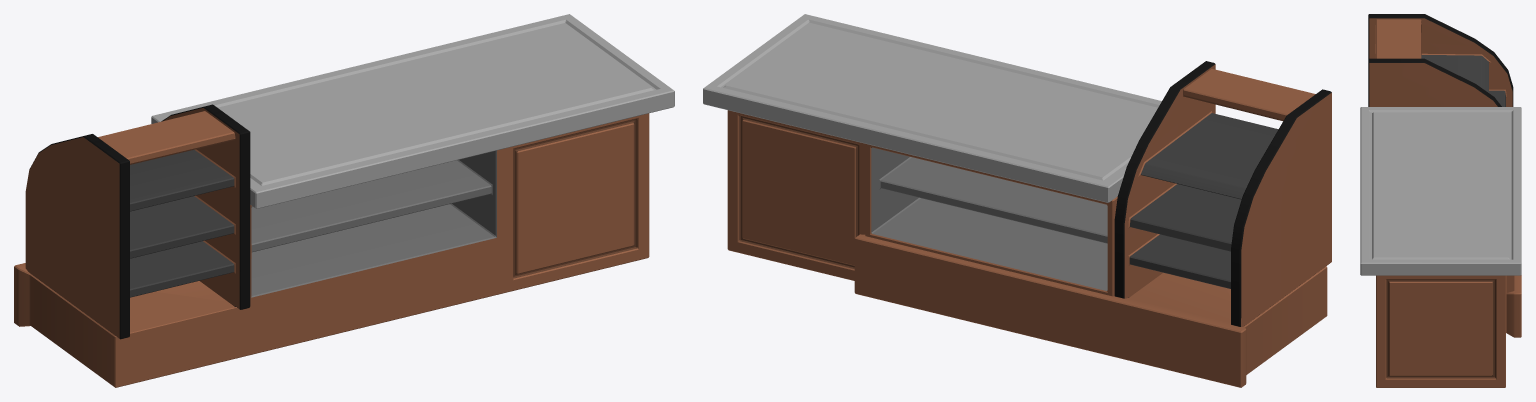
The model's file is cafeteria-serving-counter.glb.
The picture shows the model from 3 angles, left to right: view 1: azimuth 30°, elevation 25°; view 2: azimuth 150°, elevation 25°; view 3: azimuth 270°, elevation 25°; orthographic projection. The views are drawn at different scales.
Parts seen in each view (by area): view 1: Object_68; view 2: Object_68; view 3: Object_68.
Part boxes in pixels (<box>): Object_68: <box>14,14,674,387</box>; Object_68: <box>703,14,1331,387</box>; Object_68: <box>1360,14,1521,387</box>.
Size of the model in its own units: 3.8 by 1.51 by 1.25.
1 material, 1 textured.
